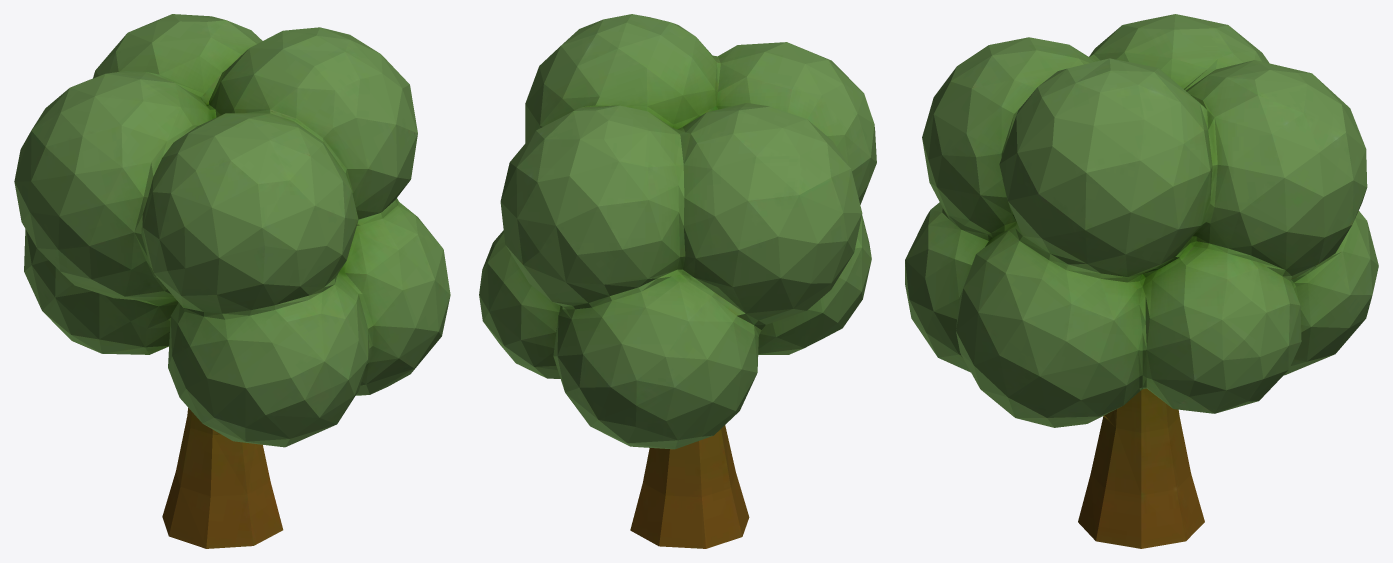
File: shrub_LOD0.glb
The picture shows the model from 3 angles, left to right: view 1: azimuth 30°, elevation 25°; view 2: azimuth 150°, elevation 25°; view 3: azimuth 270°, elevation 25°; orthographic projection. The views are drawn at different scales.
Parts seen in each view (by area): view 1: shrub_LOD0; view 2: shrub_LOD0; view 3: shrub_LOD0.
Boxes of the visible parts, left/top/right/bottom form: shrub_LOD0: left=14, top=14, right=450, bottom=548; shrub_LOD0: left=479, top=14, right=876, bottom=548; shrub_LOD0: left=905, top=14, right=1378, bottom=548.
Size of the model in its own units: 0.7691 by 1 by 0.8747.
1 material, 1 textured.
